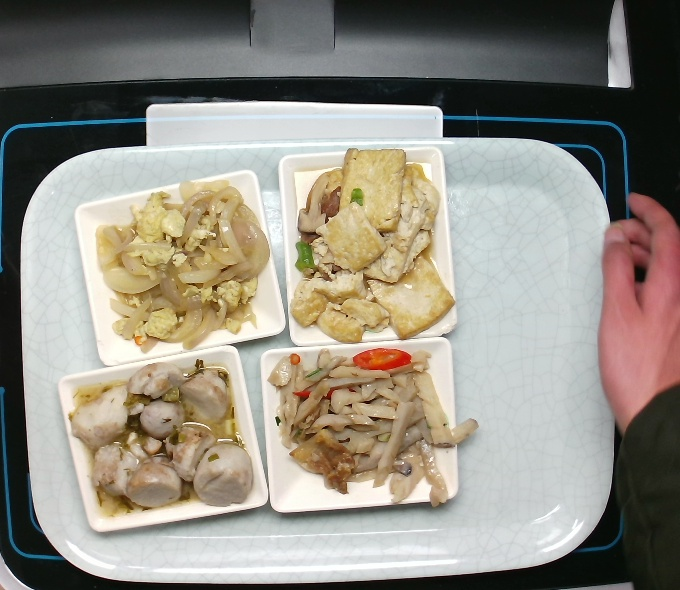wcq-JiaChangDouFu: (289, 142, 462, 341)
wcq-QingChaoOuPian: (268, 345, 480, 513)
wcq-YangCongChaoDan: (88, 173, 271, 359)
wcq-YangYu: (68, 362, 257, 521)
